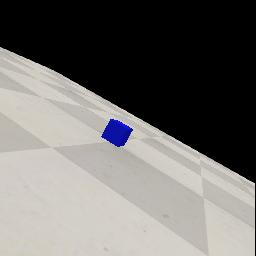box: (101, 119, 133, 147)
